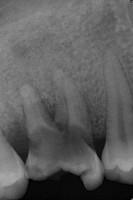Endo-Periodontal Lesion: (41, 97, 56, 119)
